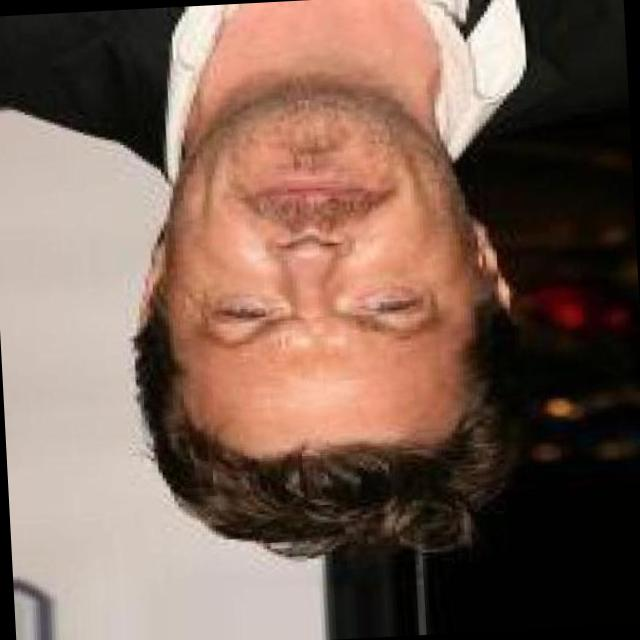bareface: (157, 92, 506, 490)
